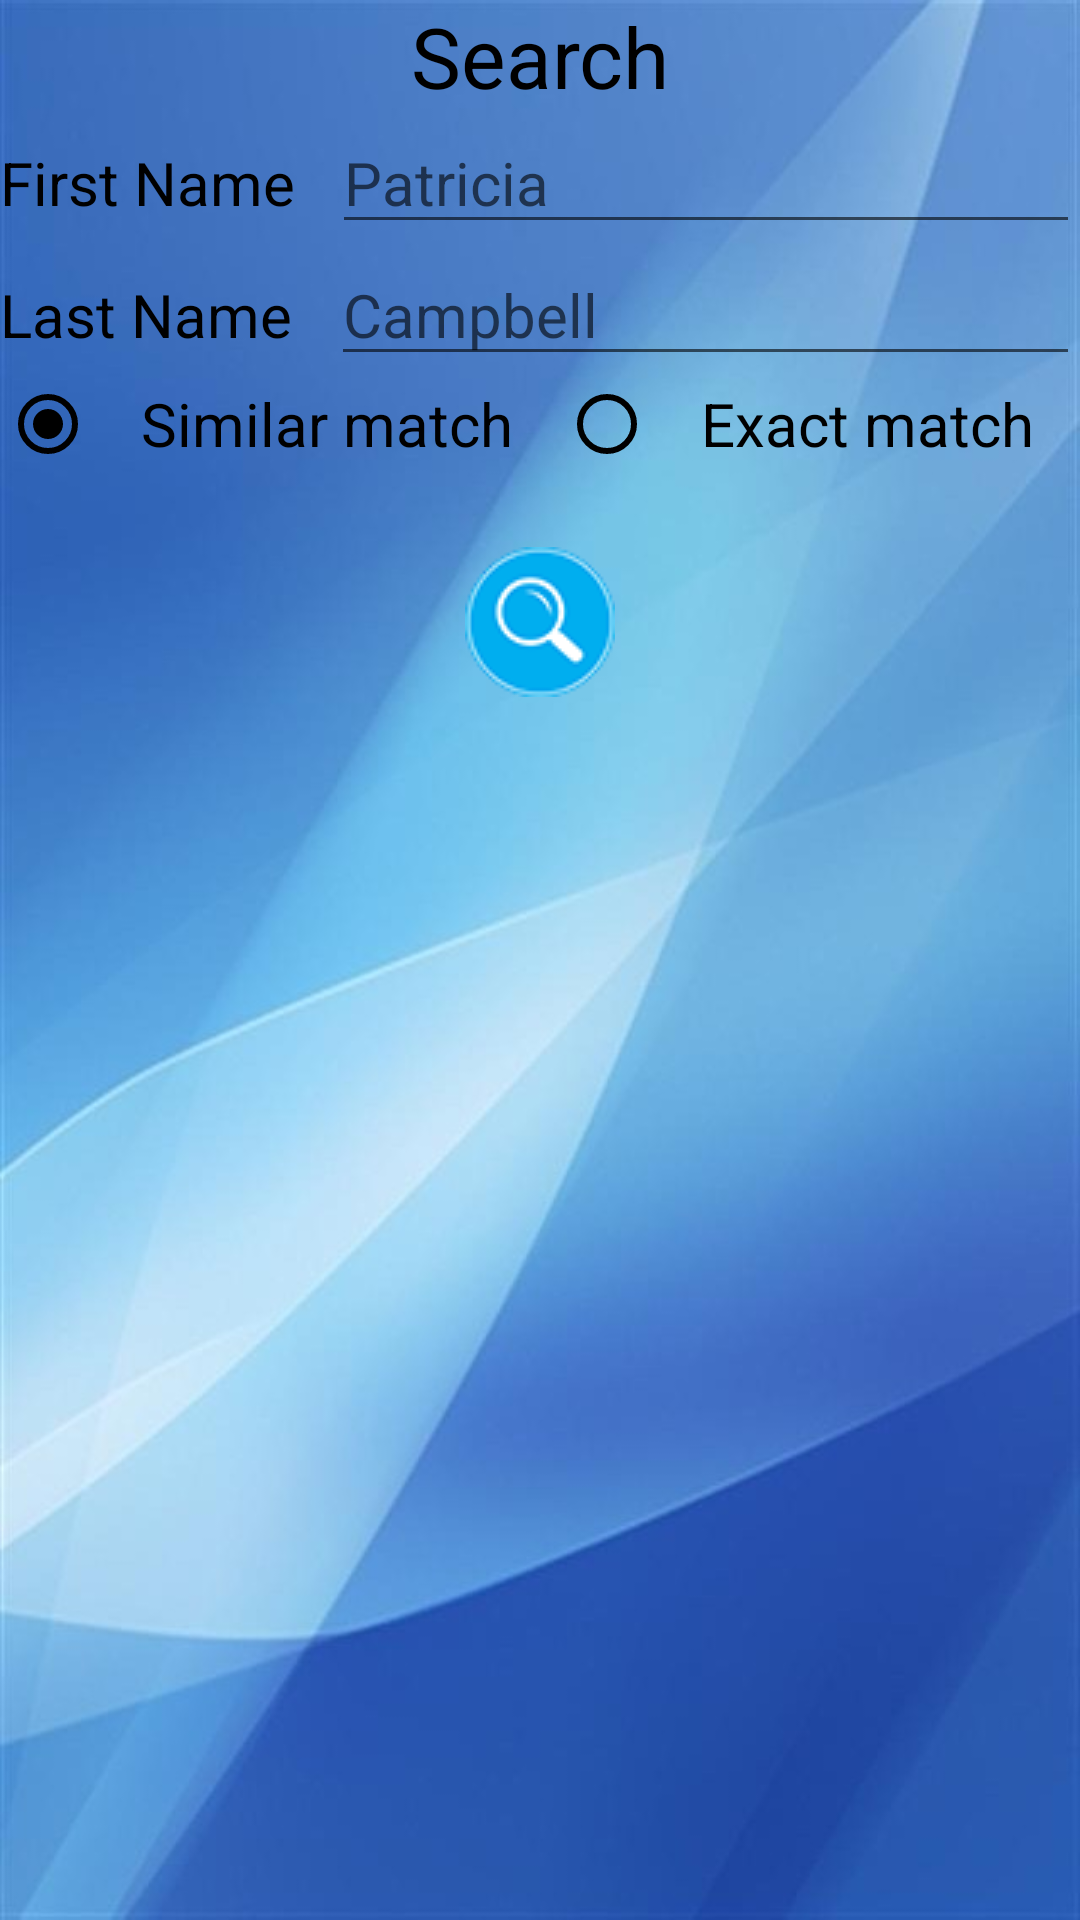

Screen size 1080x1920. Icon name, then its box in pixels as (x1, y1, x2, y2):
search: (465, 547, 615, 697)
